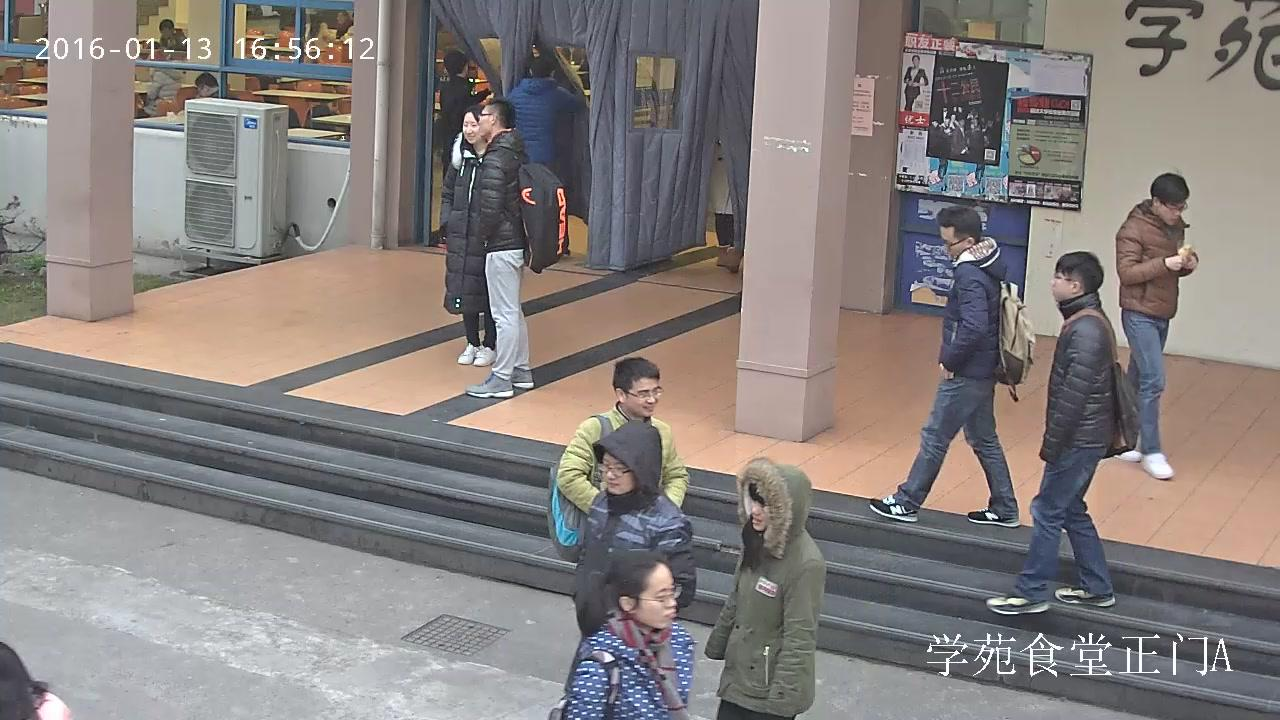person: (986, 251, 1143, 615), (866, 204, 1039, 526), (704, 456, 825, 720), (464, 95, 567, 398), (549, 356, 692, 559), (569, 420, 695, 640), (1114, 169, 1200, 475), (547, 552, 696, 720), (436, 105, 500, 365), (502, 55, 586, 194), (436, 48, 498, 174), (705, 142, 740, 274), (132, 52, 183, 117), (902, 54, 928, 113), (157, 19, 187, 53), (334, 9, 353, 38)
